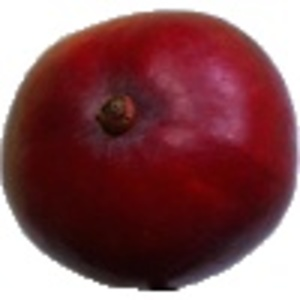manga: (1, 10, 300, 291)
